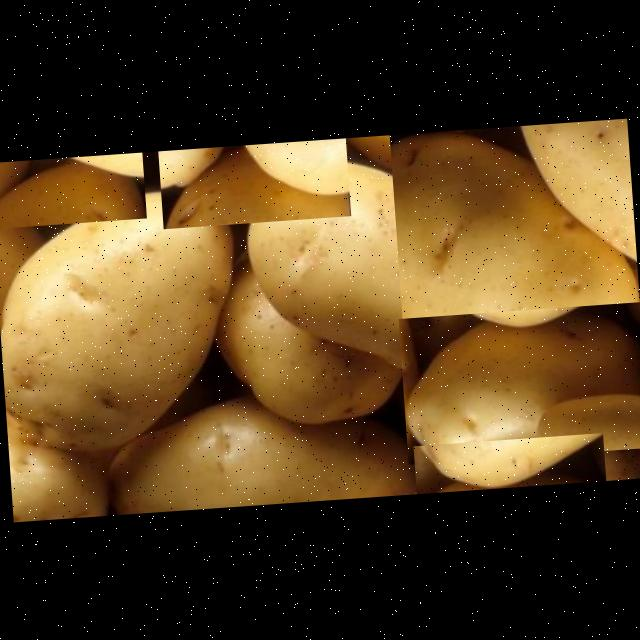Potato: (0, 185, 246, 456), (240, 148, 514, 384), (390, 118, 640, 318), (94, 386, 422, 516), (398, 301, 640, 464), (158, 138, 351, 228), (413, 432, 606, 493), (0, 152, 146, 229)
